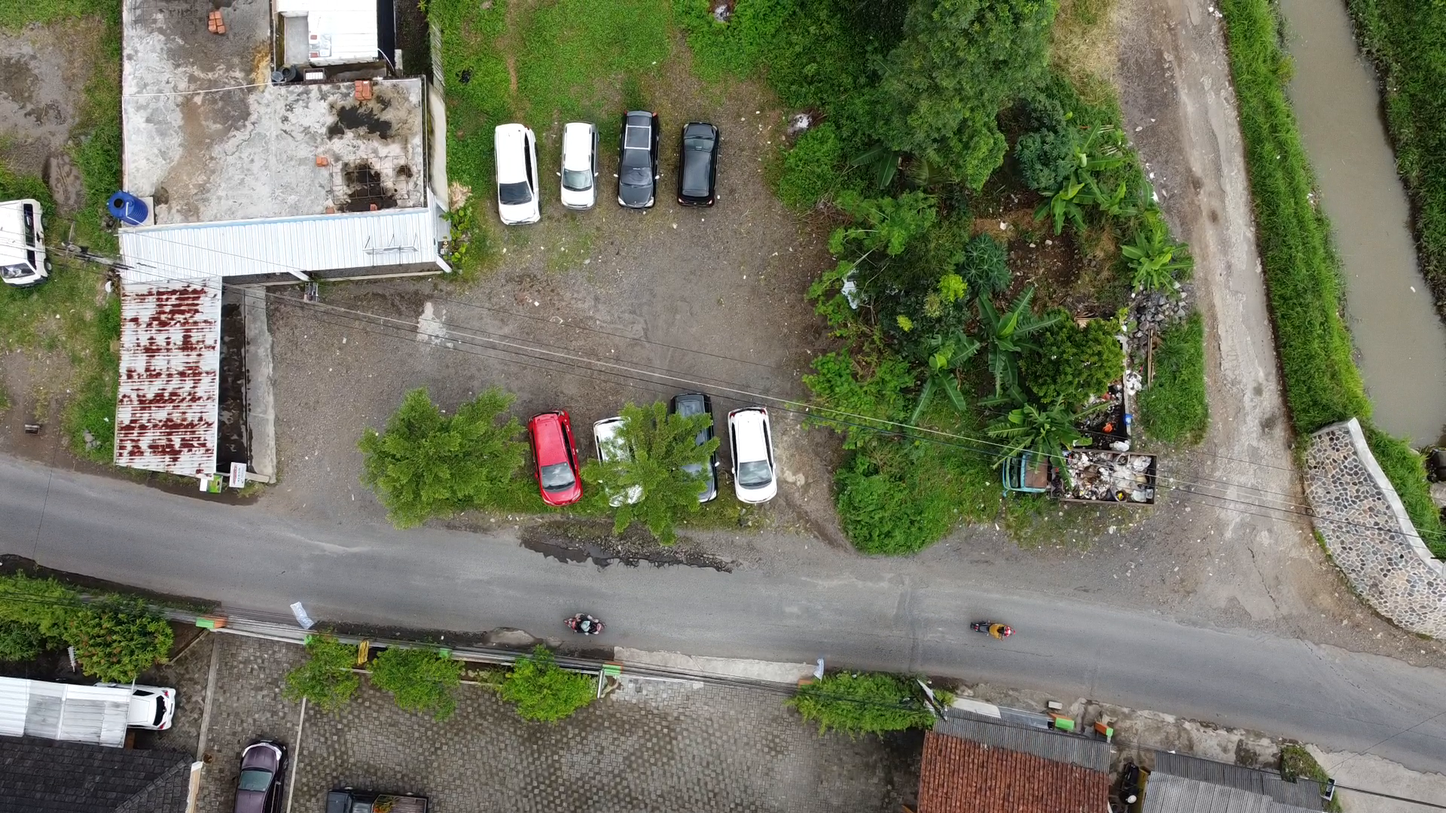mobil: (663, 378, 727, 519), (725, 400, 788, 519), (584, 407, 657, 508), (487, 120, 551, 230), (608, 101, 668, 213), (521, 407, 591, 502), (1, 193, 58, 302), (91, 672, 188, 733), (676, 118, 736, 211), (315, 772, 432, 813), (557, 117, 601, 210), (233, 732, 286, 803)
